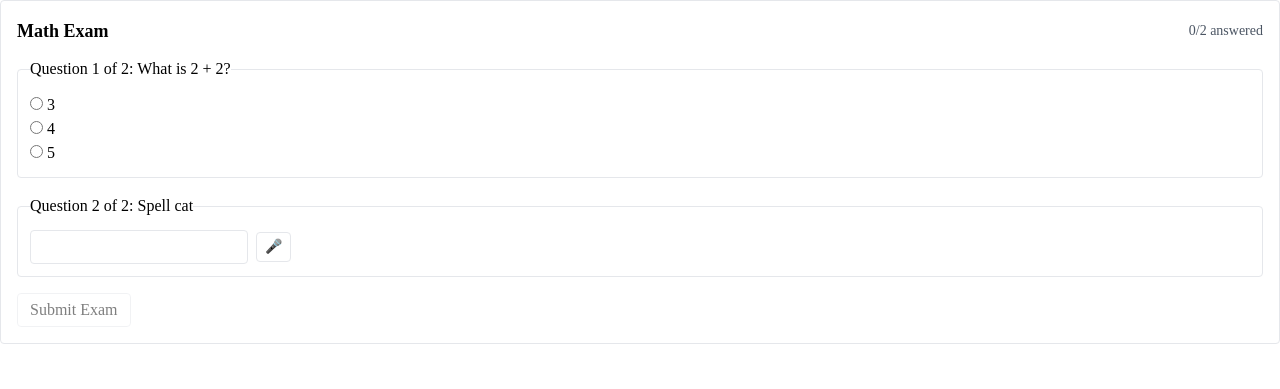
Test: Exam › grades correct answers as a pass and posts progress
Click the radio button labelled "4" at (36, 128), box 30,121 -> 43,134
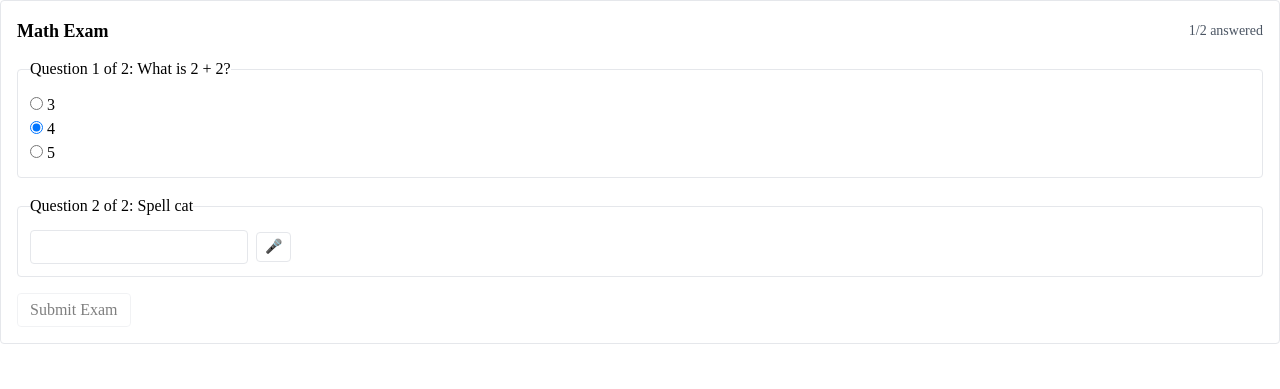
Type "cat" into the field named "Spell cat" at (139, 247), box 30,230 -> 248,264
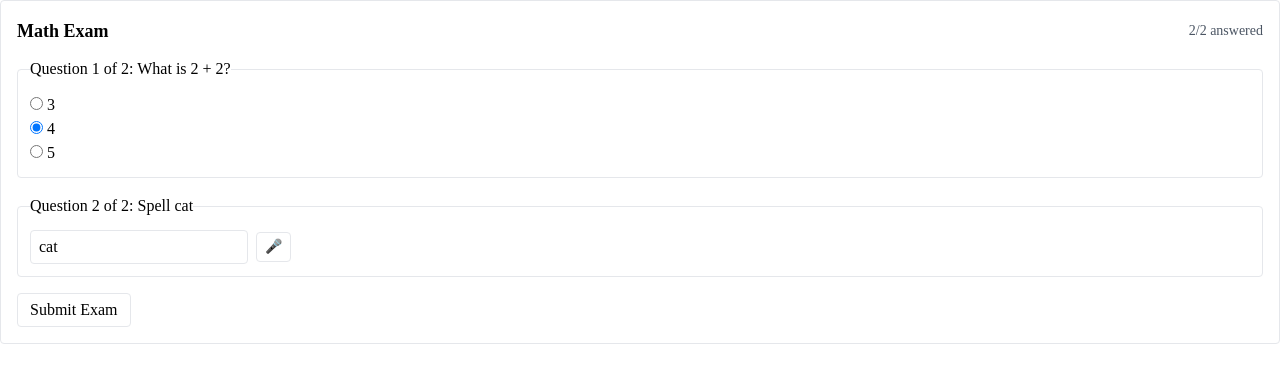
Click the button "Submit Exam" at (74, 310), box 17,293 -> 131,327
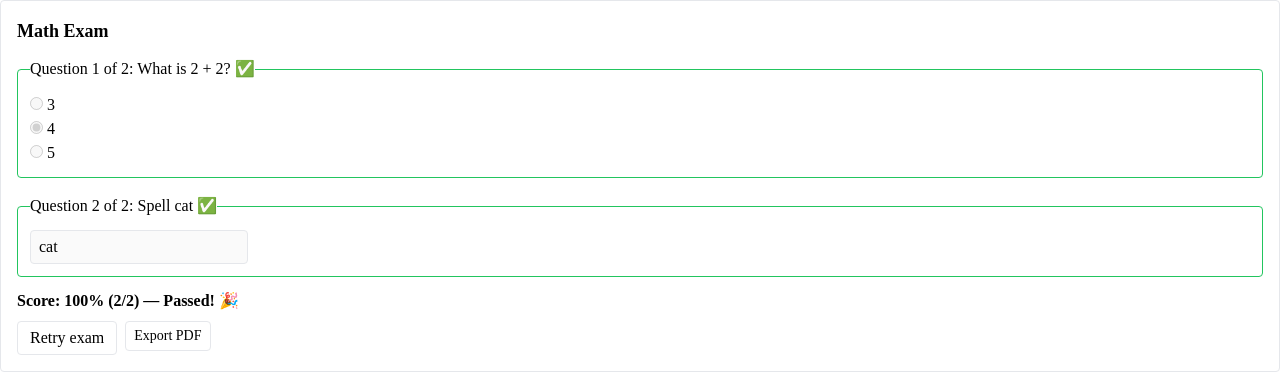
Expected: the text "Score: 100% (2/2) — Passed! 🎉" is shown, 17,292 -> 239,309
